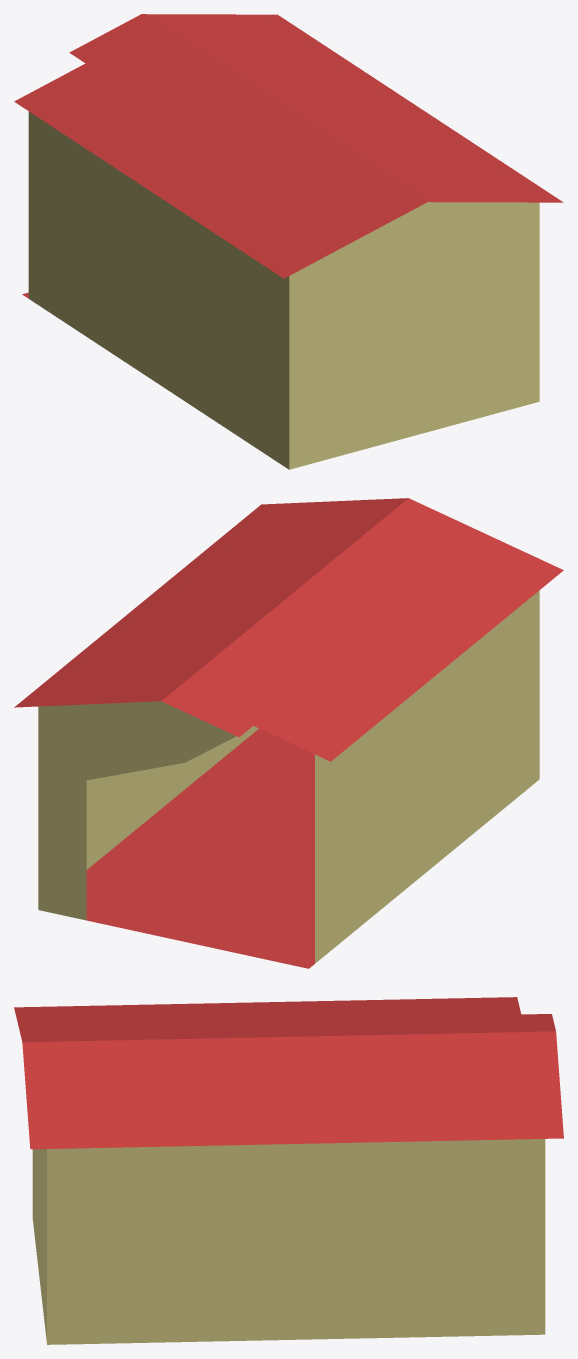
3 views of the same model, one above another, from view 1: azimuth 30°, elevation 25°; view 2: azimuth 150°, elevation 25°; view 3: azimuth 270°, elevation 25° (orthographic). The views are drawn at different scales.
Bounding box in the file's own units: 15.23 × 23.24 × 11.25.
